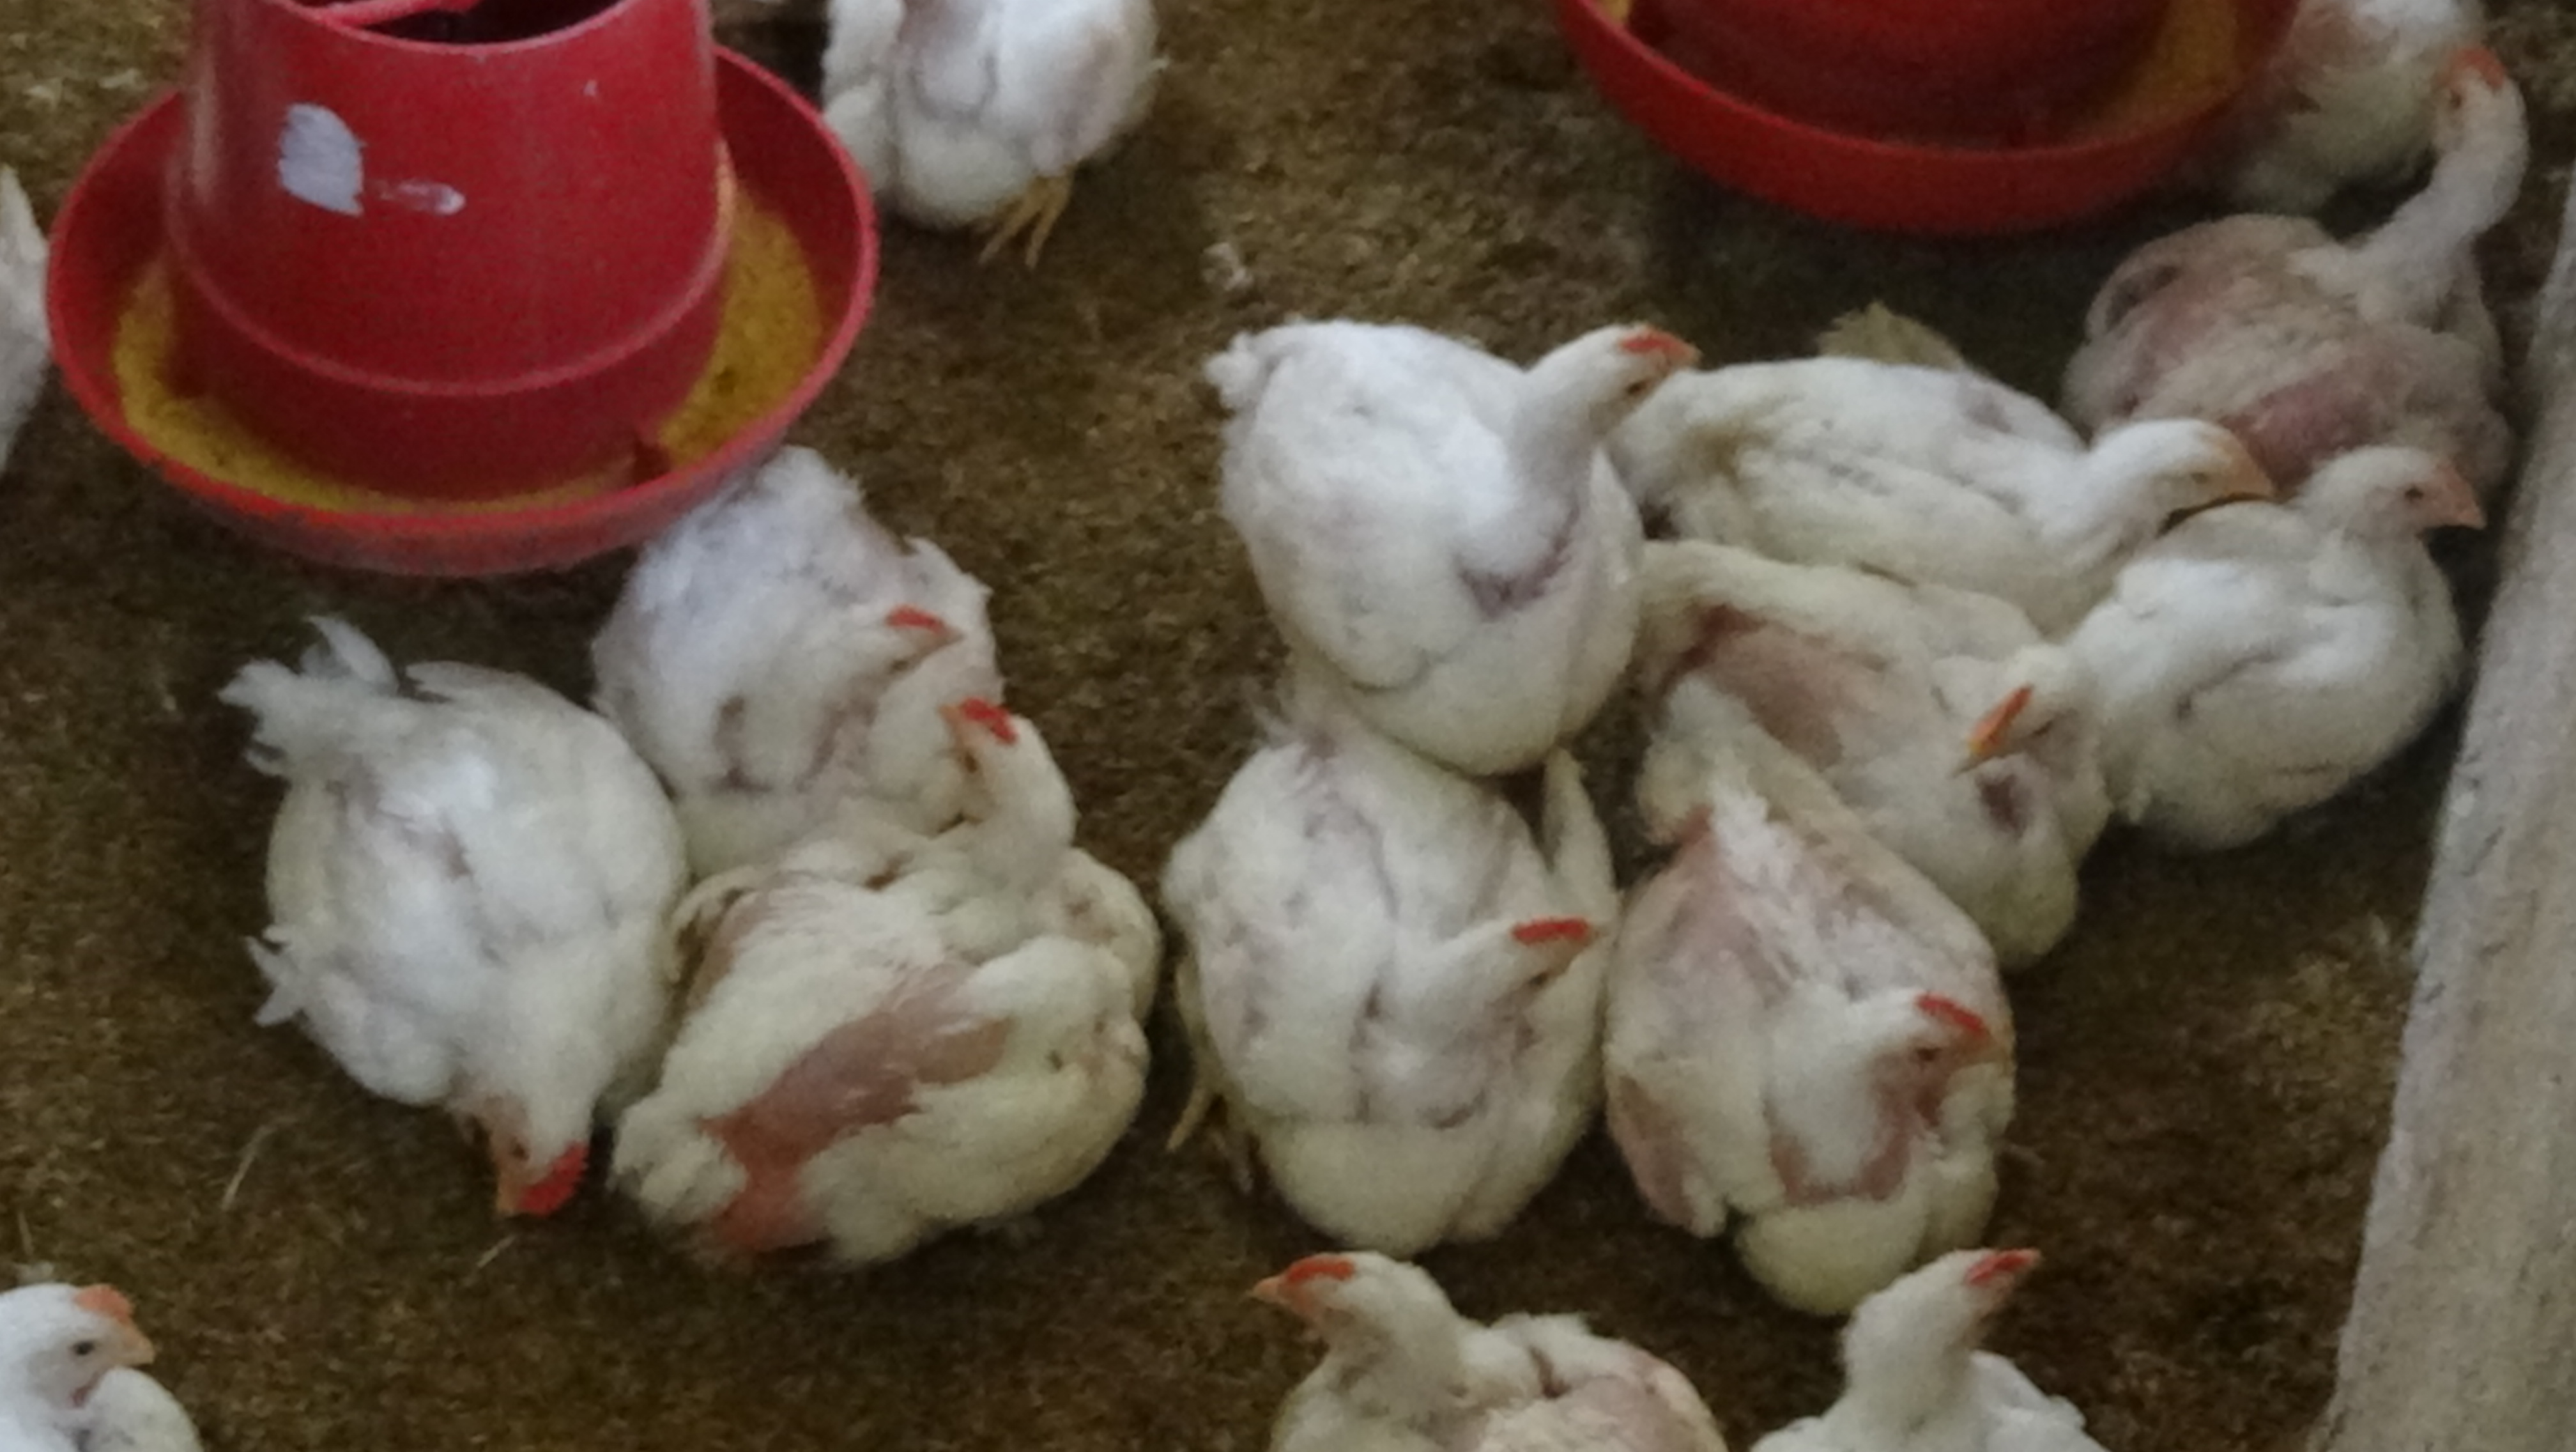Pollos: (630, 643, 1143, 1277), (1178, 719, 1603, 1236), (248, 639, 600, 1231), (1235, 301, 1706, 730), (1626, 836, 1994, 1247), (1798, 308, 2288, 577), (1224, 1193, 1718, 1452), (798, 0, 1162, 292), (2254, 430, 2496, 855), (653, 476, 961, 783), (1789, 1224, 2075, 1452), (1918, 616, 2135, 843), (2367, 39, 2546, 296), (0, 1224, 193, 1452)
